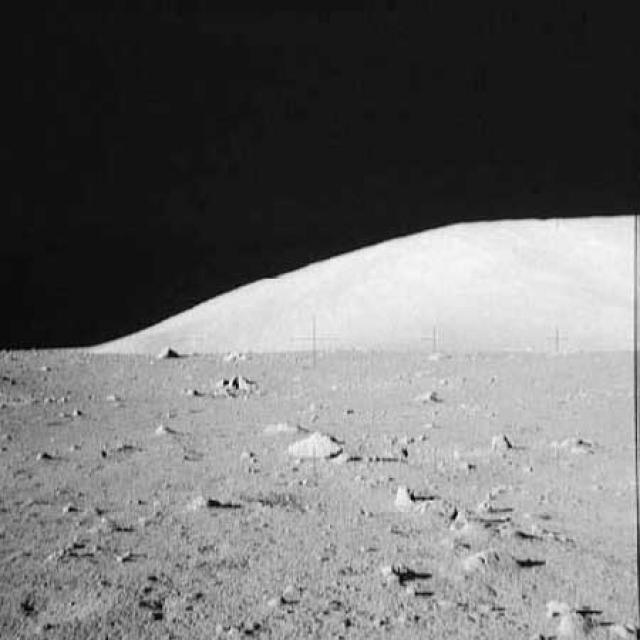rock: (534, 595, 587, 639), (201, 371, 268, 403), (183, 490, 227, 520), (289, 434, 343, 458), (153, 341, 191, 362), (488, 428, 518, 454), (396, 479, 420, 510)
